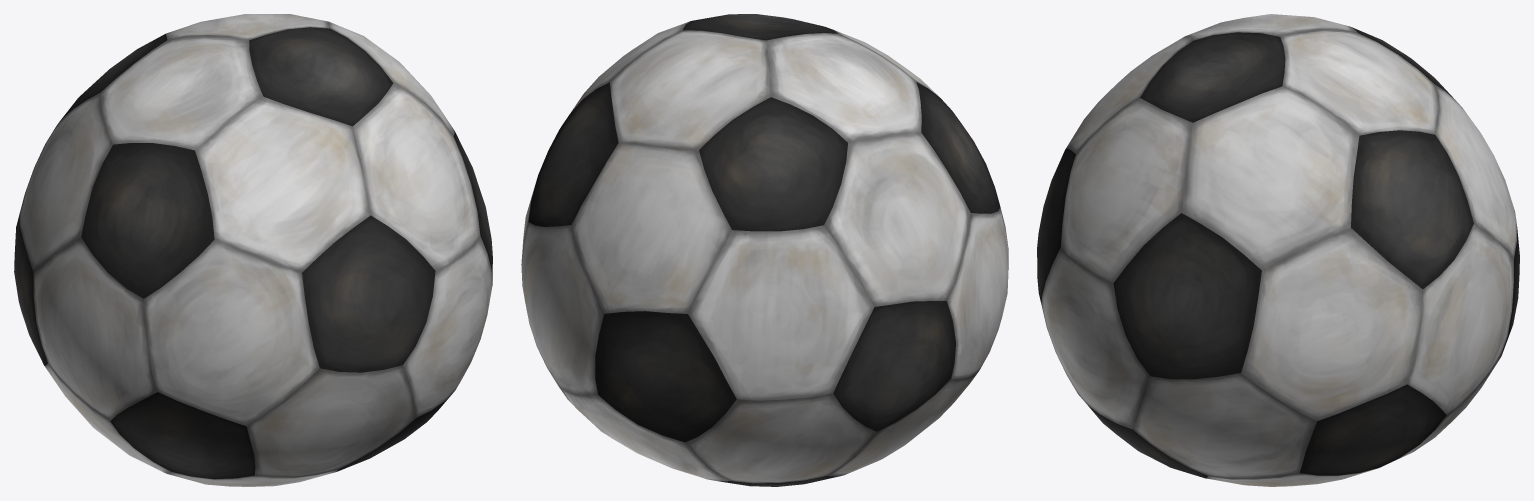
The model's file is balon.glb.
3 views of the same model, side by side, from view 1: azimuth 30°, elevation 25°; view 2: azimuth 150°, elevation 25°; view 3: azimuth 270°, elevation 25° (orthographic).
Visible parts, largest first — view 1: Soccer_Ball.1_1; view 2: Soccer_Ball.1_1; view 3: Soccer_Ball.1_1.
Boxes of the visible parts, x1,y1,x2,y2 form: Soccer_Ball.1_1: (14, 14, 492, 486); Soccer_Ball.1_1: (521, 14, 1008, 486); Soccer_Ball.1_1: (1037, 14, 1519, 486).
Bounding box in the file's own units: 0.2287 × 0.222 × 0.2296.
Materials: 1 (1 with a texture image).
